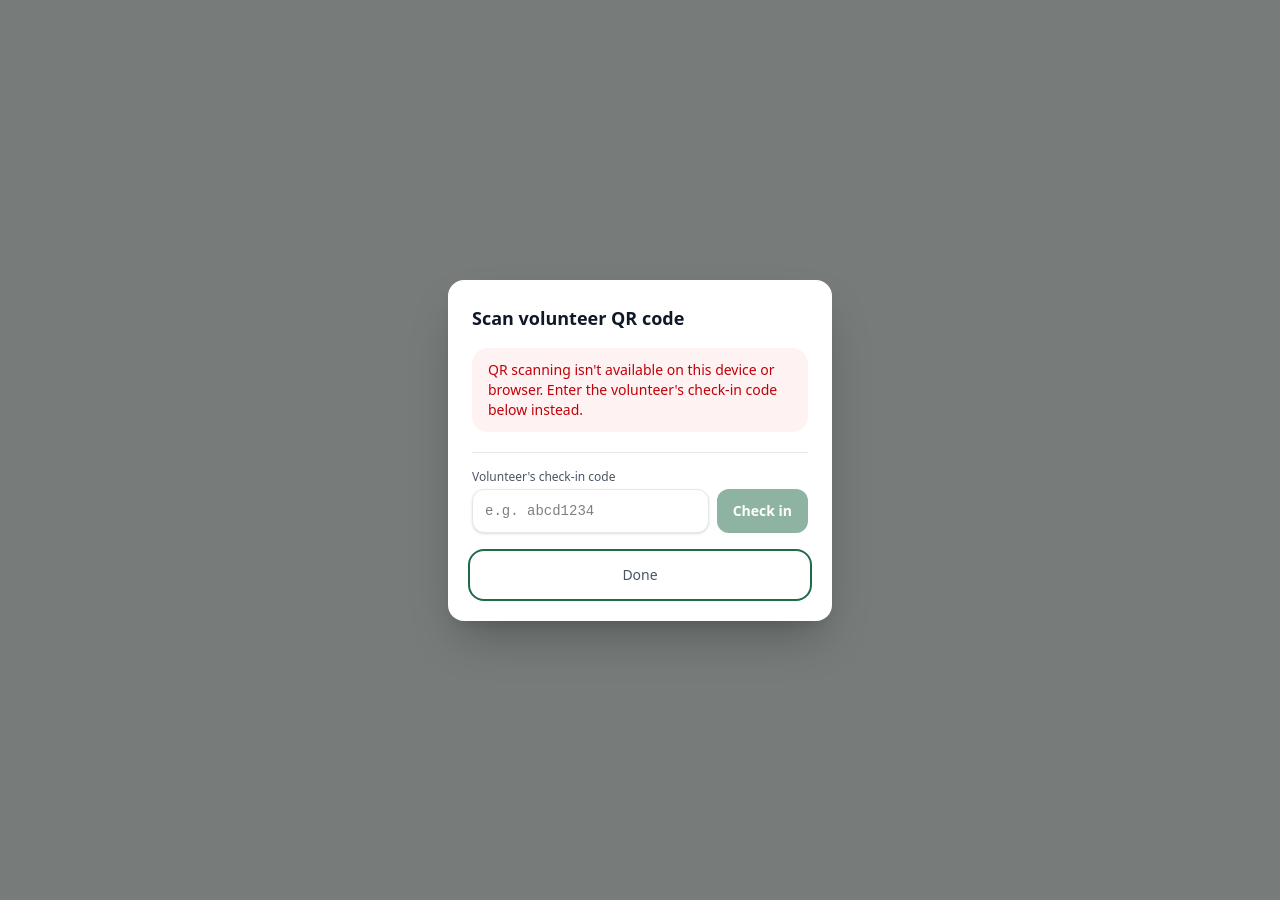
Test: QRScannerModal fallback code input › filters non-hex characters and lowercases as the organizer types
The width and height of the screenshot is (1280, 900).
Step 1. Type "ABcd12-XY34ef56" into the field labelled "Volunteer's check-in code" → x=590, y=510, box [472,488,709,532]
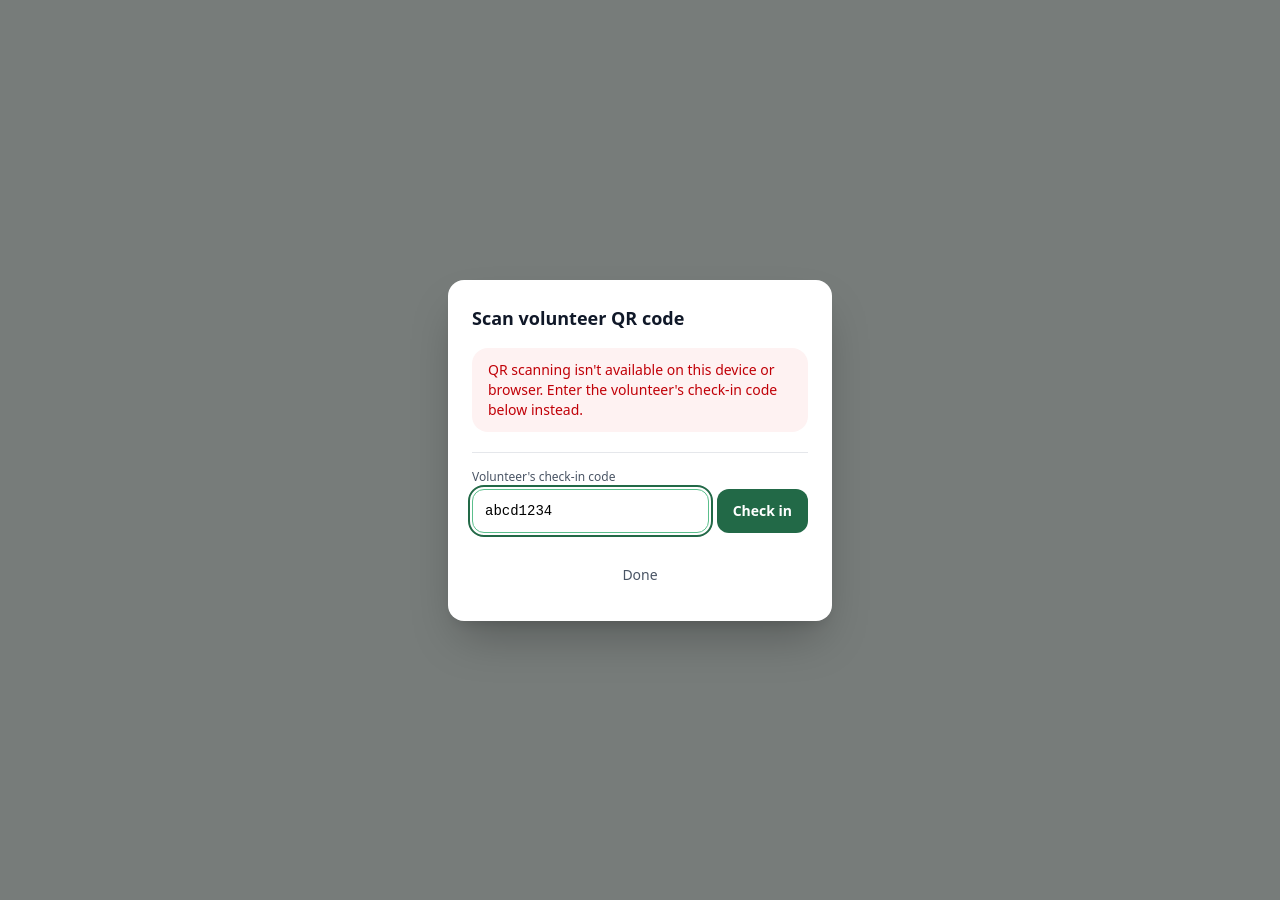
expect the field labelled "Volunteer's check-in code" holds "abcd1234": met, box [472,488,709,532]
